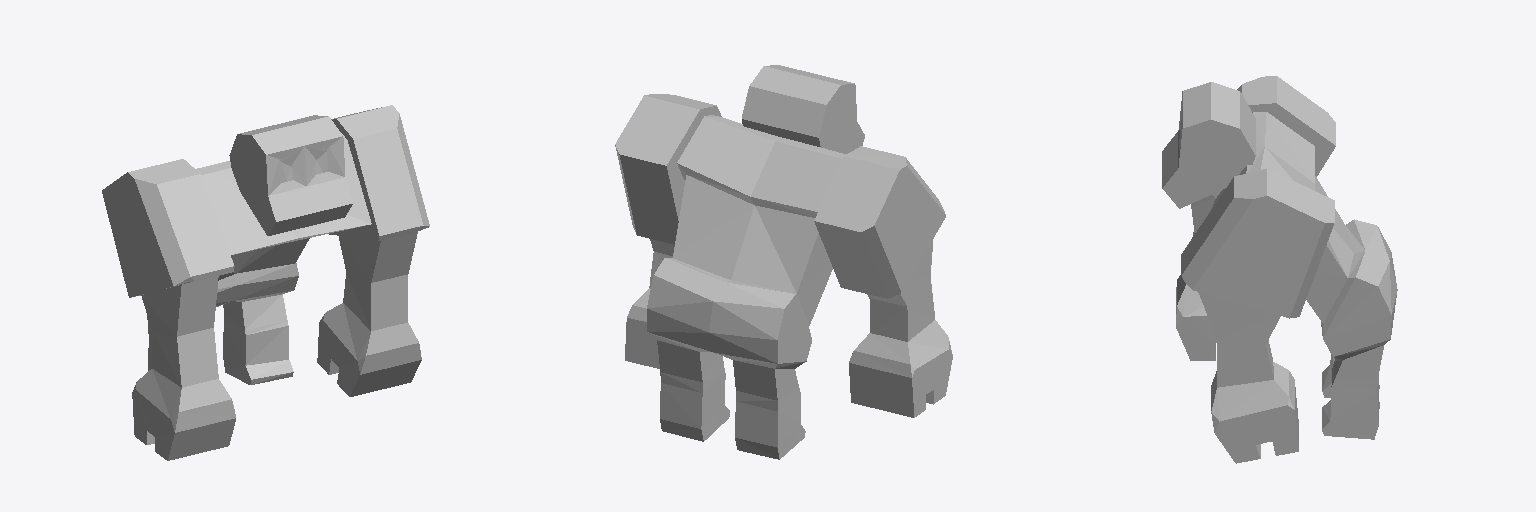
Rendered from kong_000005.obj.
The picture shows the model from 3 angles: view 1: azimuth 30°, elevation 25°; view 2: azimuth 150°, elevation 25°; view 3: azimuth 270°, elevation 25°; orthographic projection.
Parts seen in each view (by area): view 1: Cube; view 2: Cube; view 3: Cube.
Part boxes in pixels (x1,y1,x2,y2): Cube: (102,105,429,460); Cube: (615,65,952,459); Cube: (1162,76,1397,463).
Bounding box in the file's own units: 5.84 × 6.48 × 4.44.